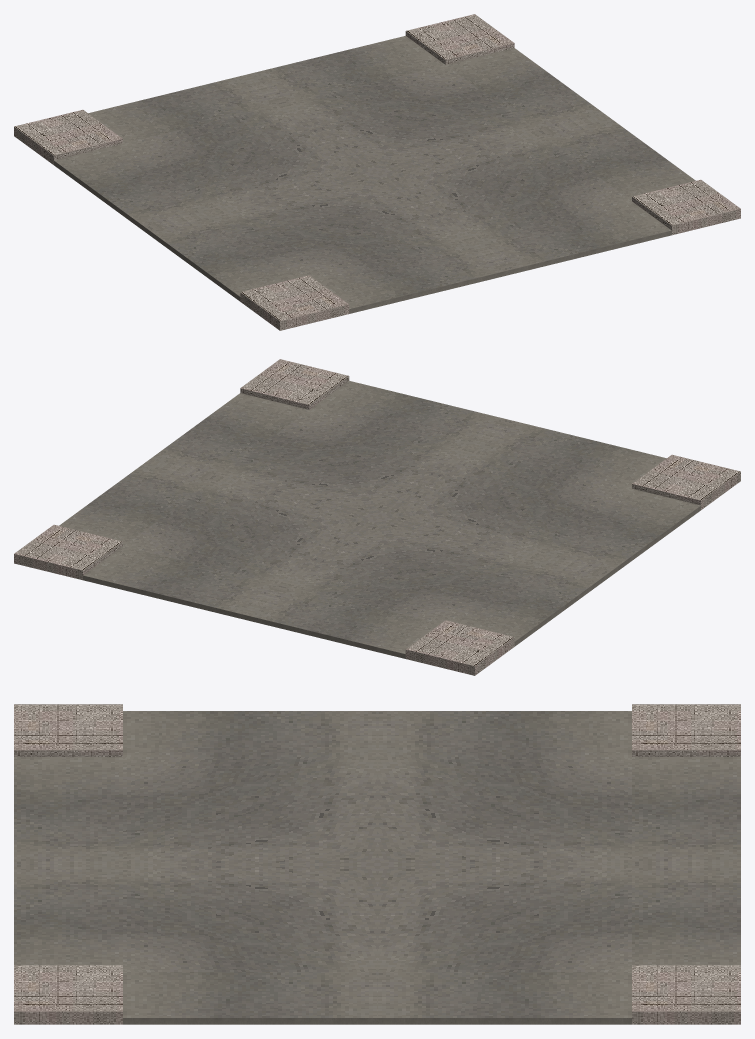
Rendered from road_3_junction.glb.
3 views of the same model, one above another, from view 1: azimuth 30°, elevation 25°; view 2: azimuth 150°, elevation 25°; view 3: azimuth 270°, elevation 25° (orthographic). The views are drawn at different scales.
Parts seen in each view (by area): view 1: road_3_junction; view 2: road_3_junction; view 3: road_3_junction.
Boxes of the visible parts, box(x1,y1,x2,y2) form: road_3_junction: box(14, 14, 740, 330); road_3_junction: box(14, 359, 740, 675); road_3_junction: box(14, 704, 740, 1024).
Bounding box in the file's own units: 16 × 0.32 × 16.
2 materials, 2 textured.
